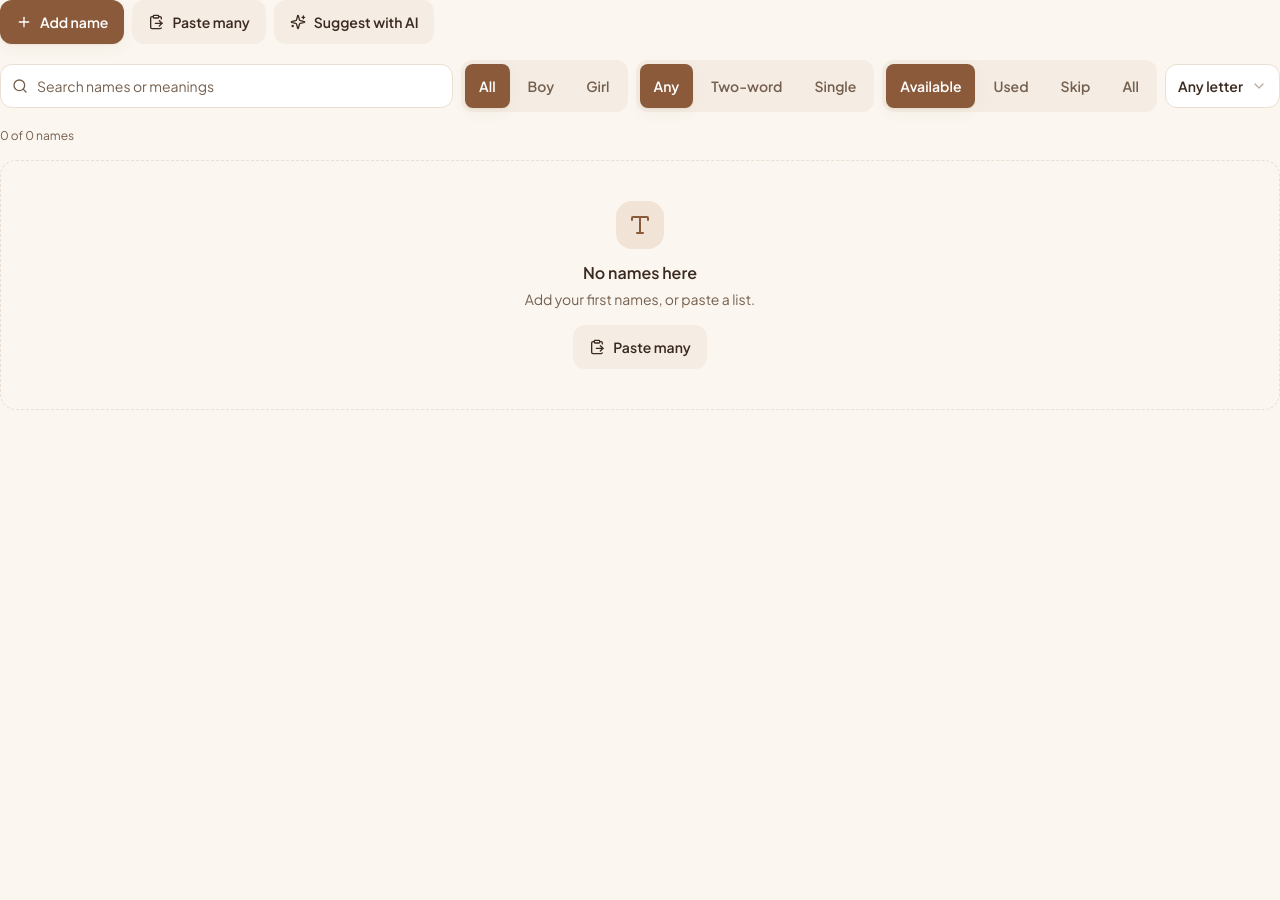
Scenario: Names: suggest + approve › shows the action's error (e.g. the missing v2 update) inside the dialog
Click the button "Suggest with AI".
click(354, 22)  # box [274,0,434,44]
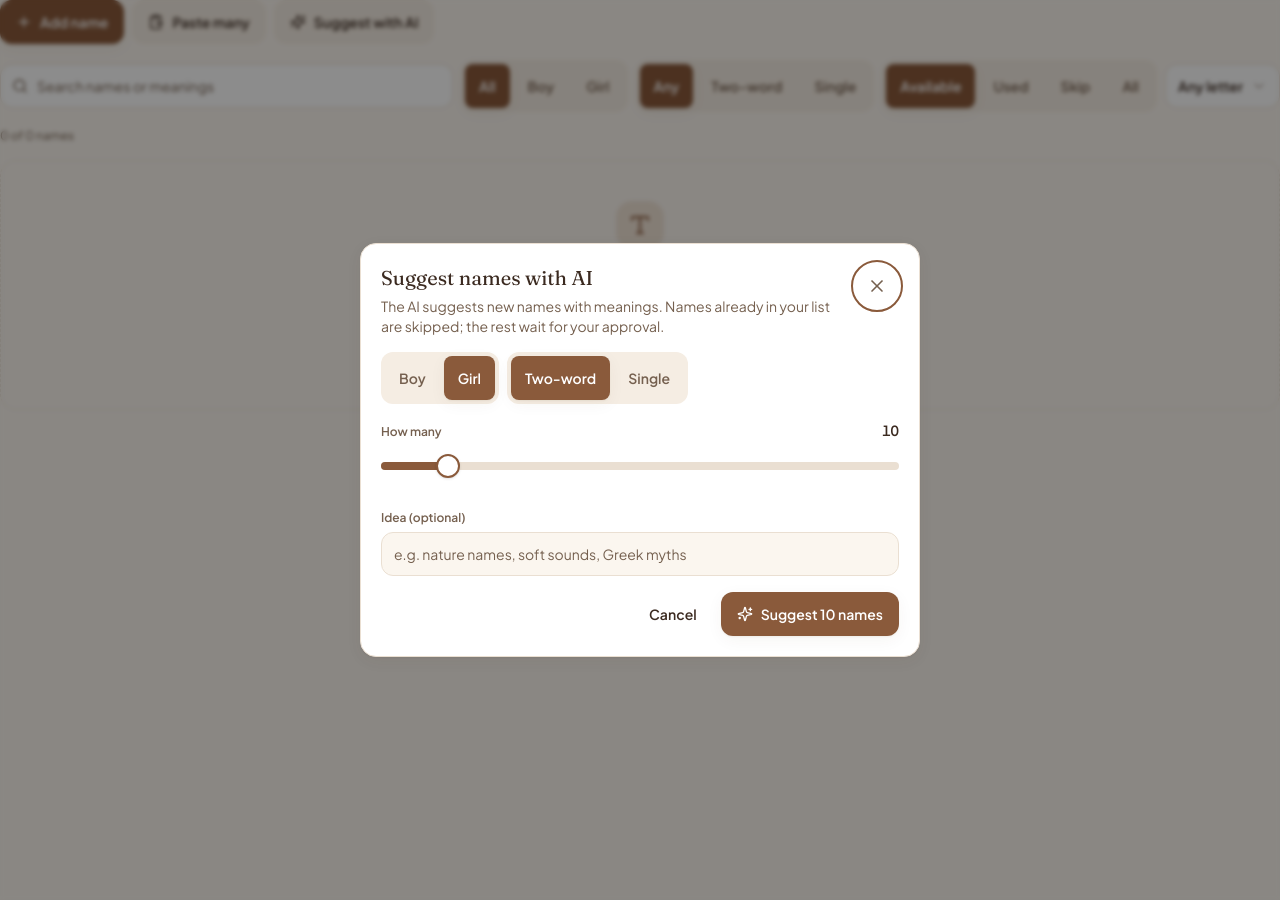
Click the button "Suggest 10 names".
click(810, 614)  # box [721,592,899,636]
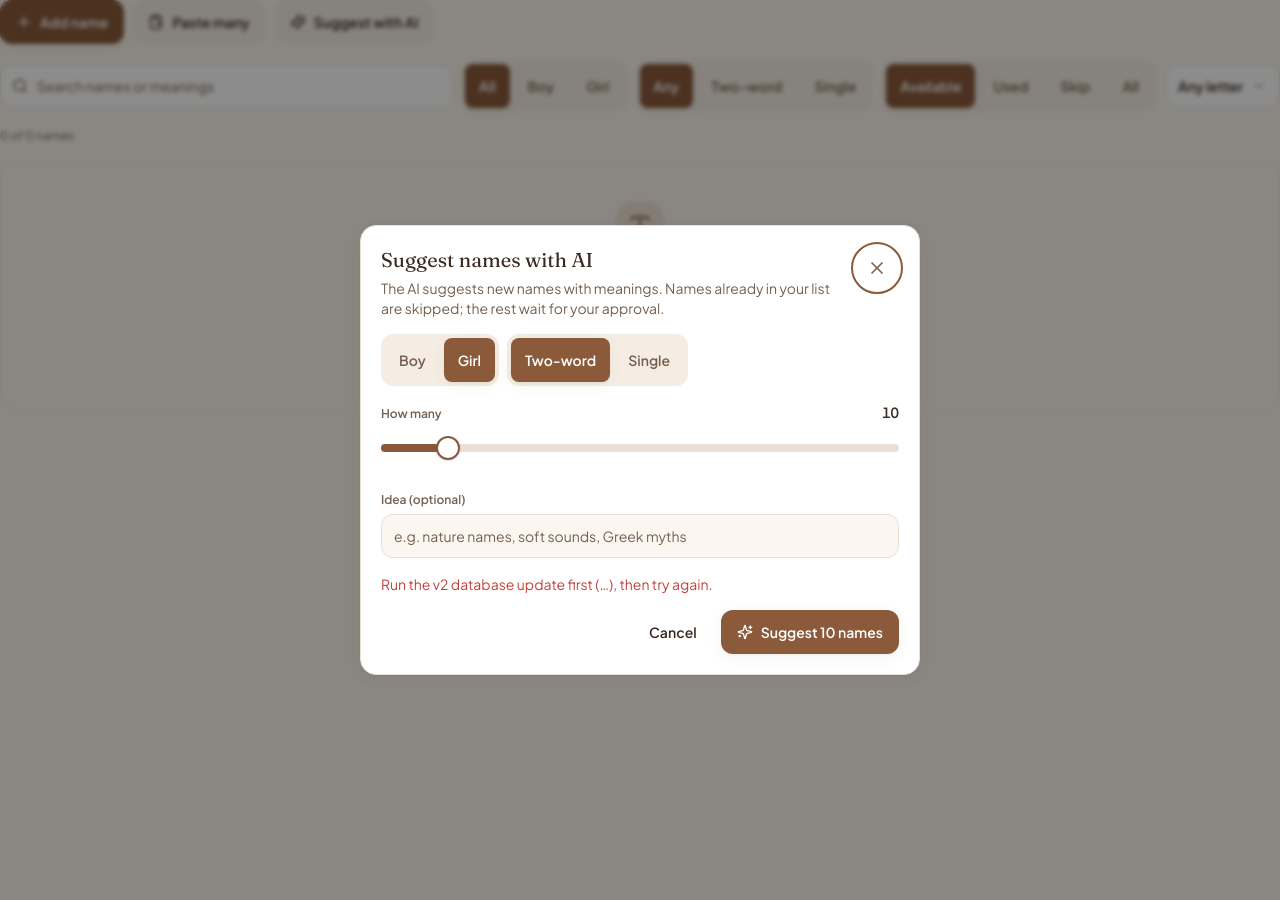
Result: the message shows "Run the v2 database update first" at [381,575,712,593]
